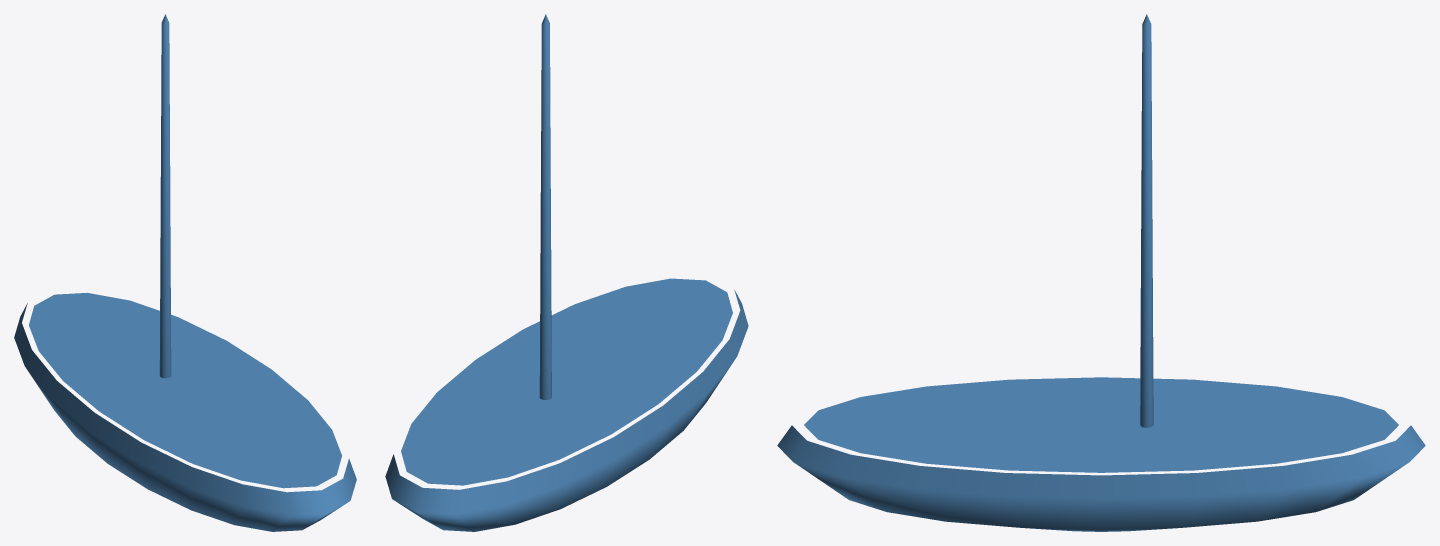
Rendered from boat.glb.
The picture shows the model from 3 angles, left to right: view 1: azimuth 30°, elevation 25°; view 2: azimuth 150°, elevation 25°; view 3: azimuth 270°, elevation 25°; orthographic projection. The views are drawn at different scales.
Visible parts, largest first — view 1: boat; view 2: boat; view 3: boat.
Part boxes in pixels (x1,y1,x2,y2): boat: [14, 14, 356, 531]; boat: [385, 14, 748, 531]; boat: [777, 14, 1425, 531].
Bounding box in the file's own units: 2.2 × 4.9 × 5.72.
